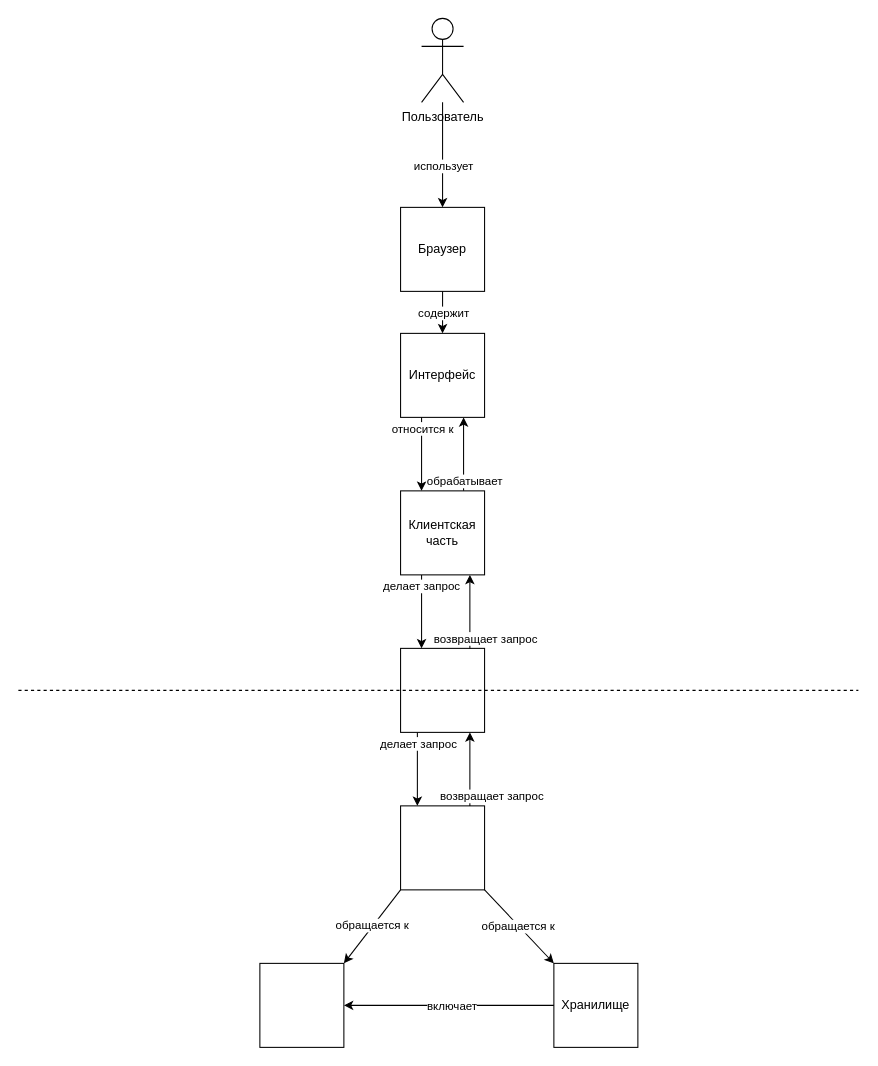
This 878x1066 diagram has some shape labels left out. Here are the shapes that lost their labels. From the top down, the centre of each, then its label:
point 442,689: API
point 442,847: Серверная часть
point 301,1004: Внешние сервисы
